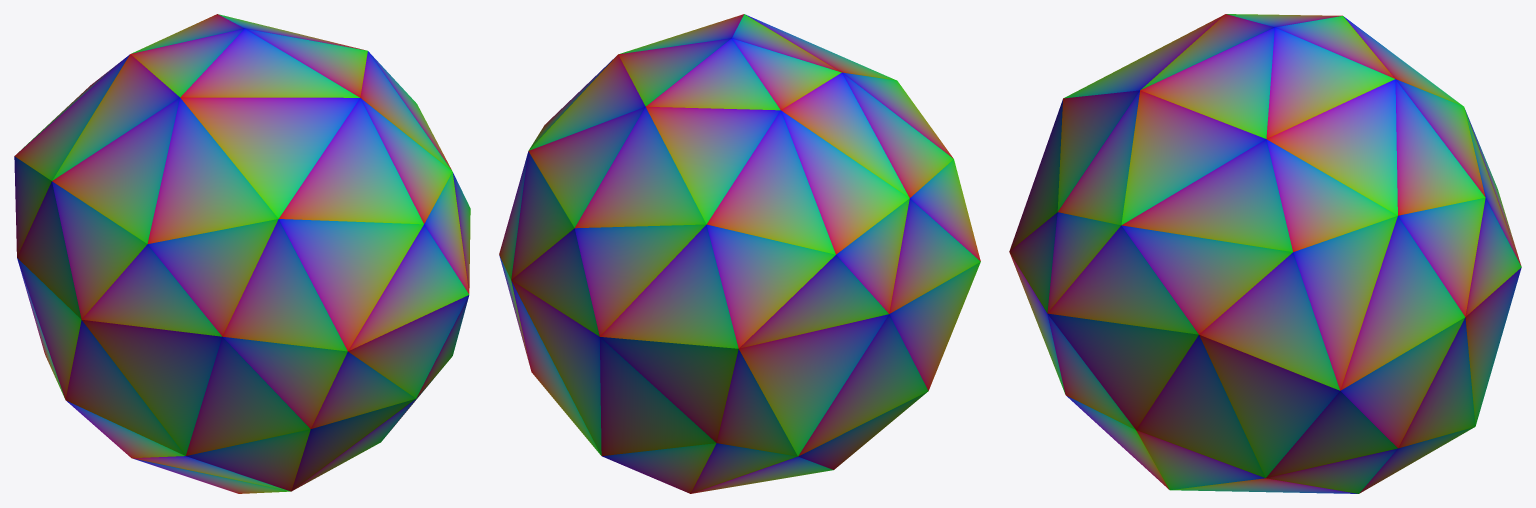
File: SM_CrystalOrb.fbx
The picture shows the model from 3 angles, left to right: view 1: azimuth 30°, elevation 25°; view 2: azimuth 150°, elevation 25°; view 3: azimuth 270°, elevation 25°; orthographic projection. The views are drawn at different scales.
Visible parts, largest first — view 1: SM_CrystalOrb; view 2: SM_CrystalOrb; view 3: SM_CrystalOrb.
Boxes of the visible parts, left/top/right/bottom form: SM_CrystalOrb: left=14, top=14, right=470, bottom=493; SM_CrystalOrb: left=499, top=14, right=980, bottom=493; SM_CrystalOrb: left=1009, top=14, right=1521, bottom=493.
Bounding box in the file's own units: 97.56 × 102 × 99.9.
